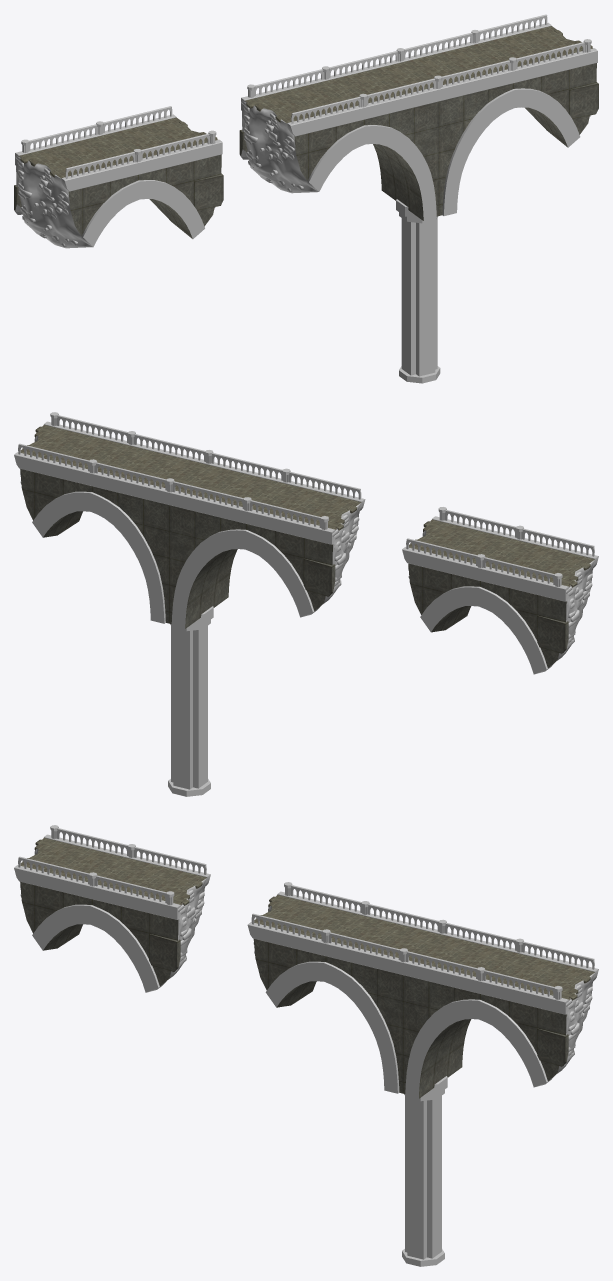
File: Bridge.fbx
3 views of the same model, one above another, from view 1: azimuth 30°, elevation 25°; view 2: azimuth 150°, elevation 25°; view 3: azimuth 330°, elevation 25° (orthographic). The views are drawn at different scales.
Parts seen in each view (by area): view 1: bridge_destroyed_02.002; view 2: bridge_destroyed_02.002; view 3: bridge_destroyed_02.002.
Part boxes in pixels (x1,y1,x2,y2): bridge_destroyed_02.002: [14, 14, 598, 383]; bridge_destroyed_02.002: [14, 412, 598, 796]; bridge_destroyed_02.002: [14, 825, 598, 1266].
Size of the model in its own units: 5833 by 3187 by 786.
